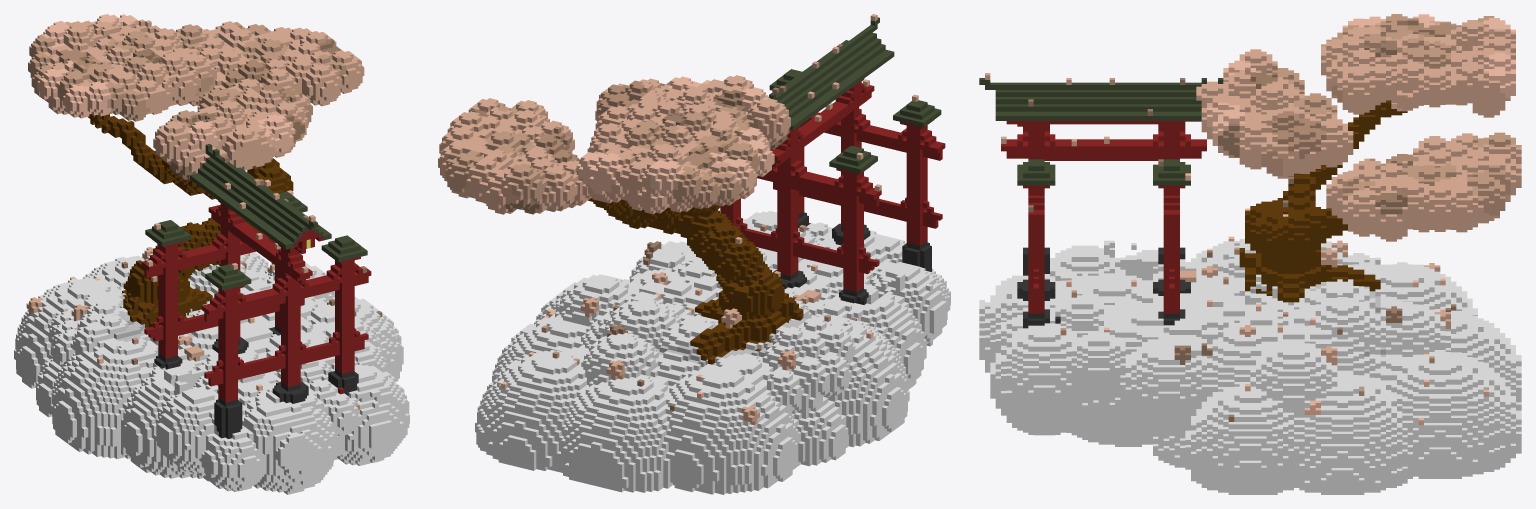
The model's file is cloud.obj.
The picture shows the model from 3 angles, left to right: view 1: azimuth 30°, elevation 25°; view 2: azimuth 150°, elevation 25°; view 3: azimuth 270°, elevation 25°; orthographic projection. The views are drawn at different scales.
Size of the model in its own units: 84 by 72 by 100.
Materials: 1 (1 with a texture image).
